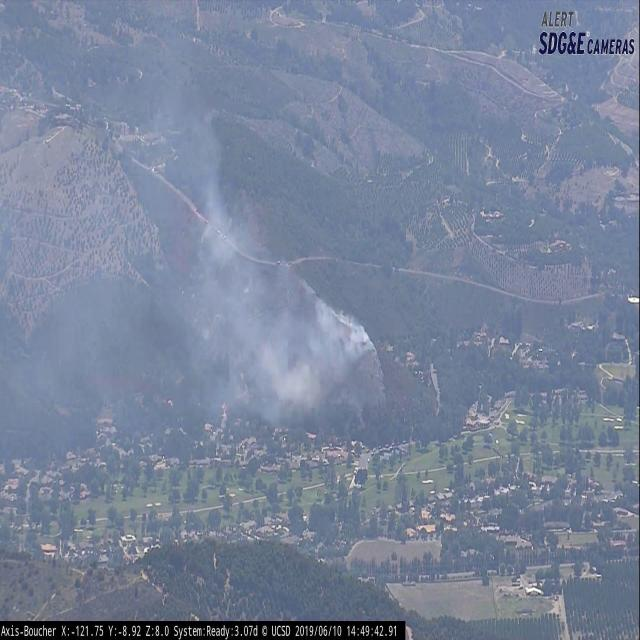smoke: (73, 77, 392, 416)
